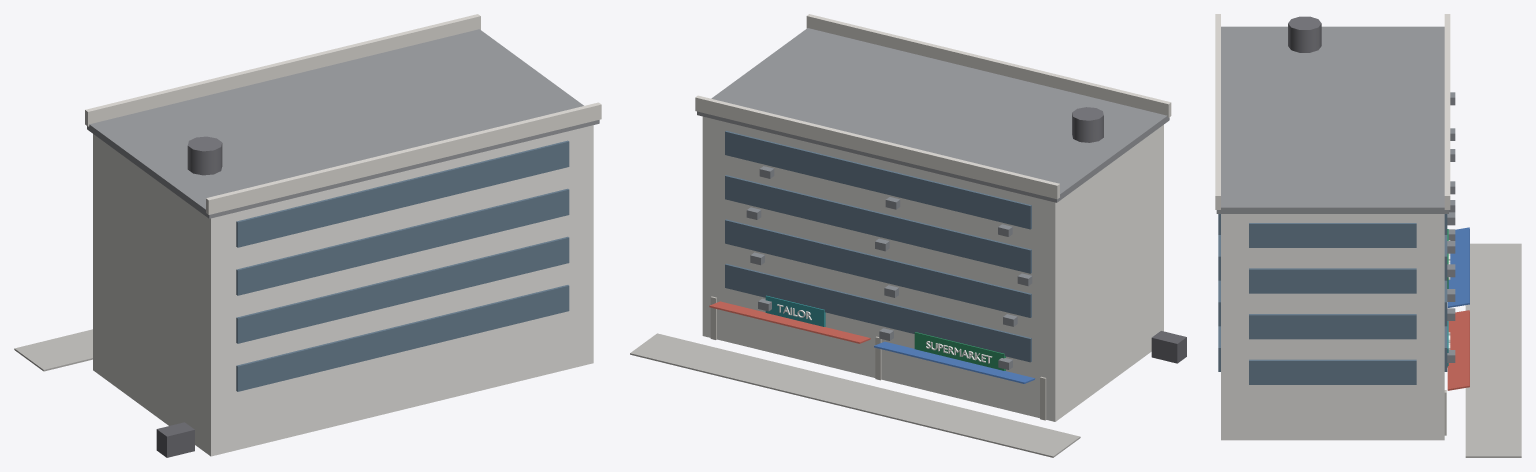
Rendered from wuse_block_4.glb.
3 renders of one model, left to right at view 1: azimuth 30°, elevation 25°; view 2: azimuth 150°, elevation 25°; view 3: azimuth 270°, elevation 25°, orthographic. The views are drawn at different scales.
Parts seen in each view (by area): view 1: BLD_wuse_block_4; view 2: BLD_wuse_block_4; view 3: BLD_wuse_block_4.
Part boxes in pixels (x1,y1,x2,y2): BLD_wuse_block_4: (14,14,601,457); BLD_wuse_block_4: (630,14,1186,457); BLD_wuse_block_4: (1215,14,1521,457).
Bounding box in the file's own units: 36 × 20.3 × 21.9.
